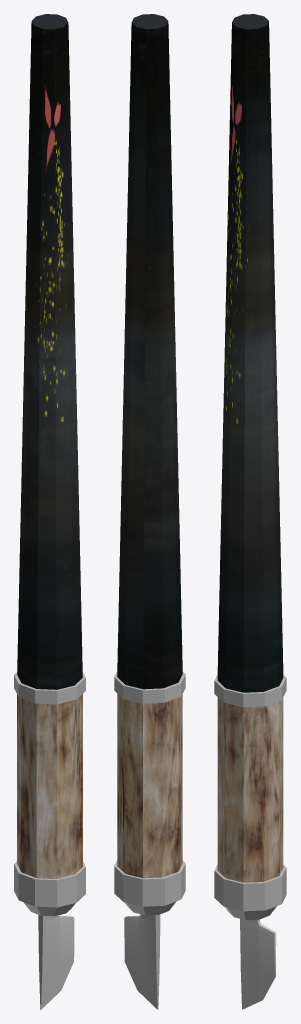
The model's file is knife.fbx.
The picture shows the model from 3 angles, left to right: view 1: azimuth 30°, elevation 25°; view 2: azimuth 150°, elevation 25°; view 3: azimuth 330°, elevation 25°; orthographic projection.
Visible parts, largest first — view 1: pCylinder1, pCube1; view 2: pCylinder1, pCube1; view 3: pCylinder1, pCube1.
Boxes of the visible parts, box(x1,y1,x2,y2) form: pCylinder1: box(14, 14, 85, 916); pCube1: box(38, 915, 74, 1009); pCylinder1: box(114, 14, 185, 915); pCube1: box(124, 914, 160, 1009); pCylinder1: box(214, 14, 286, 919); pCube1: box(240, 919, 276, 1009).
Size of the model in its own units: 2.39 by 35.84 by 2.24.
